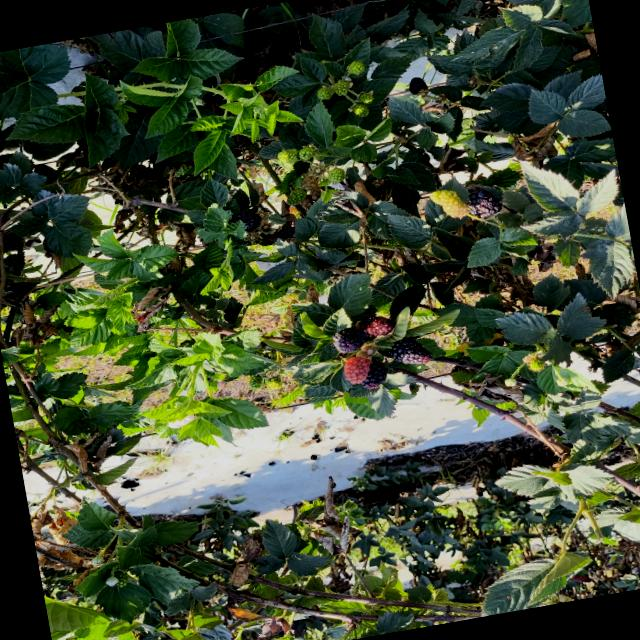maduro: (390, 337, 432, 364), (468, 188, 502, 218), (333, 327, 367, 353), (361, 362, 386, 389)
marron: (358, 316, 394, 336)
naranja: (343, 356, 371, 384)
verde: (430, 189, 468, 218), (286, 187, 307, 205), (278, 149, 300, 164), (327, 167, 345, 183), (333, 79, 351, 95), (351, 103, 369, 117), (299, 146, 315, 161), (347, 61, 365, 74), (317, 86, 333, 99), (358, 91, 373, 103)
